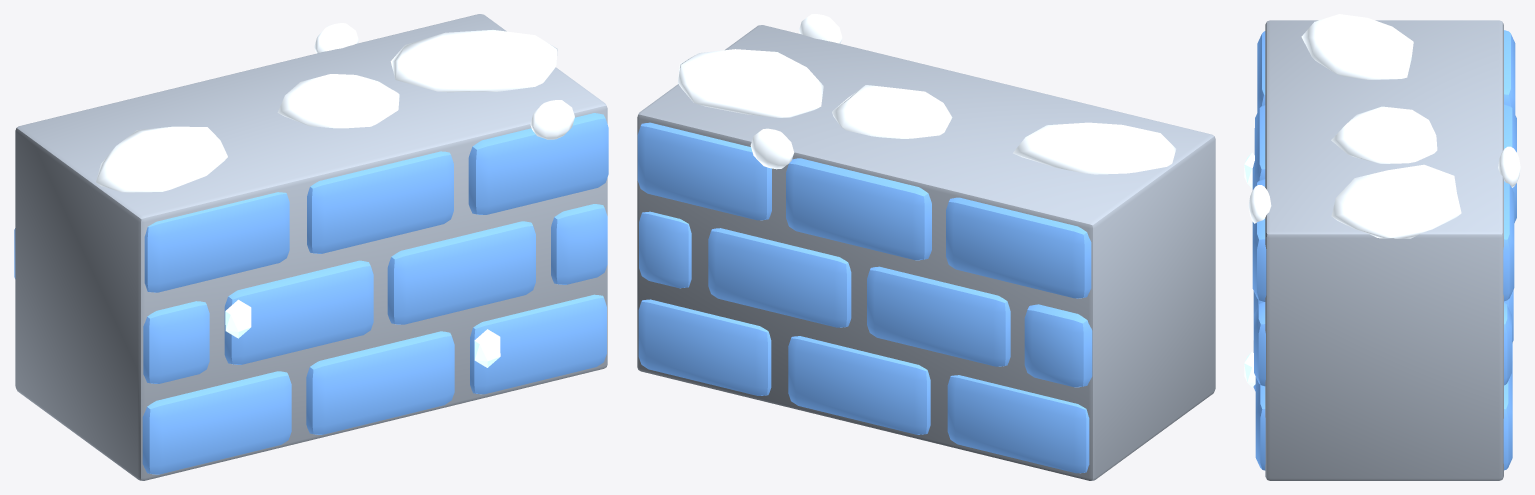
Rendered from wall_segment.glb.
The picture shows the model from 3 angles, left to right: view 1: azimuth 30°, elevation 25°; view 2: azimuth 150°, elevation 25°; view 3: azimuth 270°, elevation 25°; orthographic projection. The views are drawn at different scales.
Visible parts, largest first — view 1: wall_segment; view 2: wall_segment; view 3: wall_segment.
Boxes of the visible parts, left/top/right/bottom form: wall_segment: left=14, top=14, right=608, bottom=480; wall_segment: left=637, top=14, right=1215, bottom=480; wall_segment: left=1244, top=14, right=1520, bottom=480.
Size of the model in its own units: 1.01 by 0.5755 by 0.5323.
